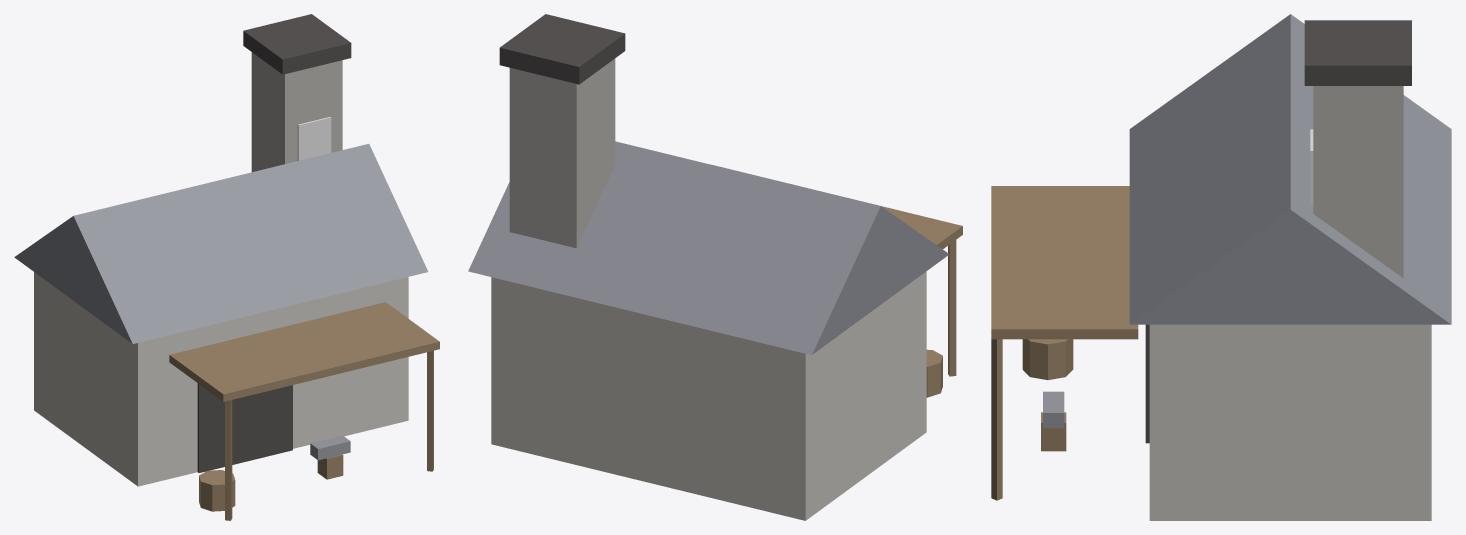
3 views of the same model, side by side, from view 1: azimuth 30°, elevation 25°; view 2: azimuth 150°, elevation 25°; view 3: azimuth 270°, elevation 25° (orthographic). The views are drawn at different scales.
Visible parts, largest first — view 1: body; view 2: body; view 3: body.
Boxes of the visible parts, bbox=[...] form: body: bbox=[14, 14, 439, 520]; body: bbox=[468, 14, 962, 520]; body: bbox=[991, 14, 1451, 520].
Size of the model in its own units: 8.2 by 8.9 by 8.15.
